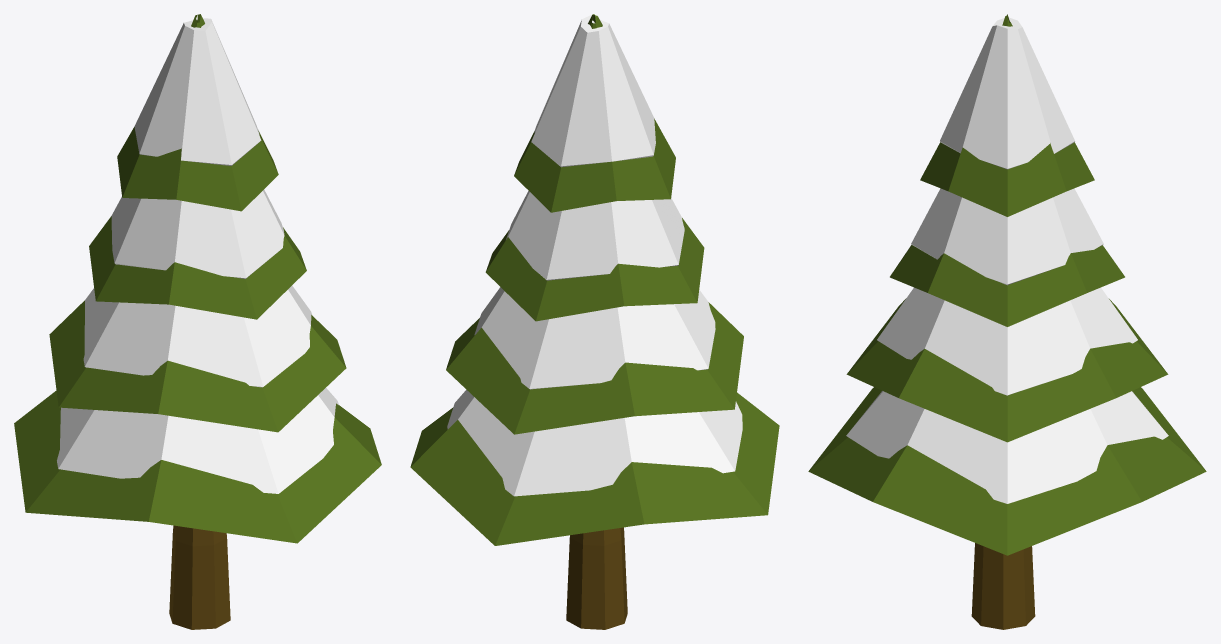
The model's file is snowytree-lowpoly.glb.
3 renders of one model, left to right at view 1: azimuth 30°, elevation 25°; view 2: azimuth 150°, elevation 25°; view 3: azimuth 270°, elevation 25°, orthographic.
Parts seen in each view (by area): view 1: tree; view 2: tree; view 3: tree.
Boxes of the visible parts, x1,y1,x2,y2 form: tree: [14, 14, 381, 629]; tree: [410, 14, 779, 629]; tree: [808, 14, 1206, 629].
Size of the model in its own units: 397 by 661 by 397.
